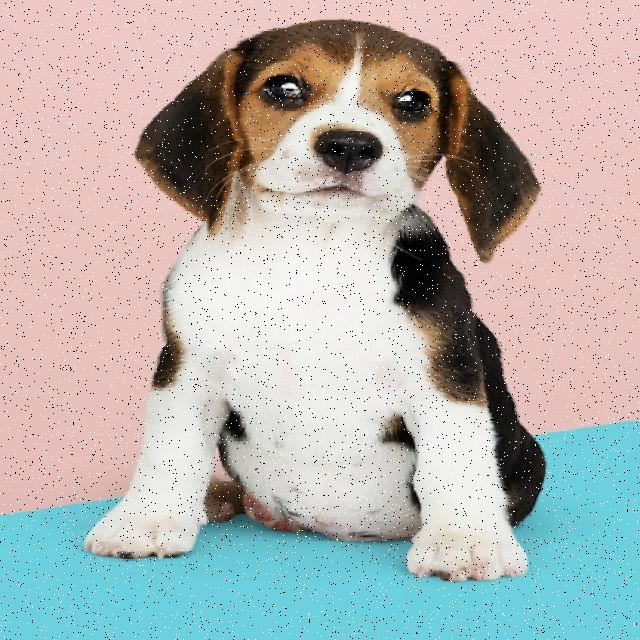Dog: (85, 19, 545, 583)
